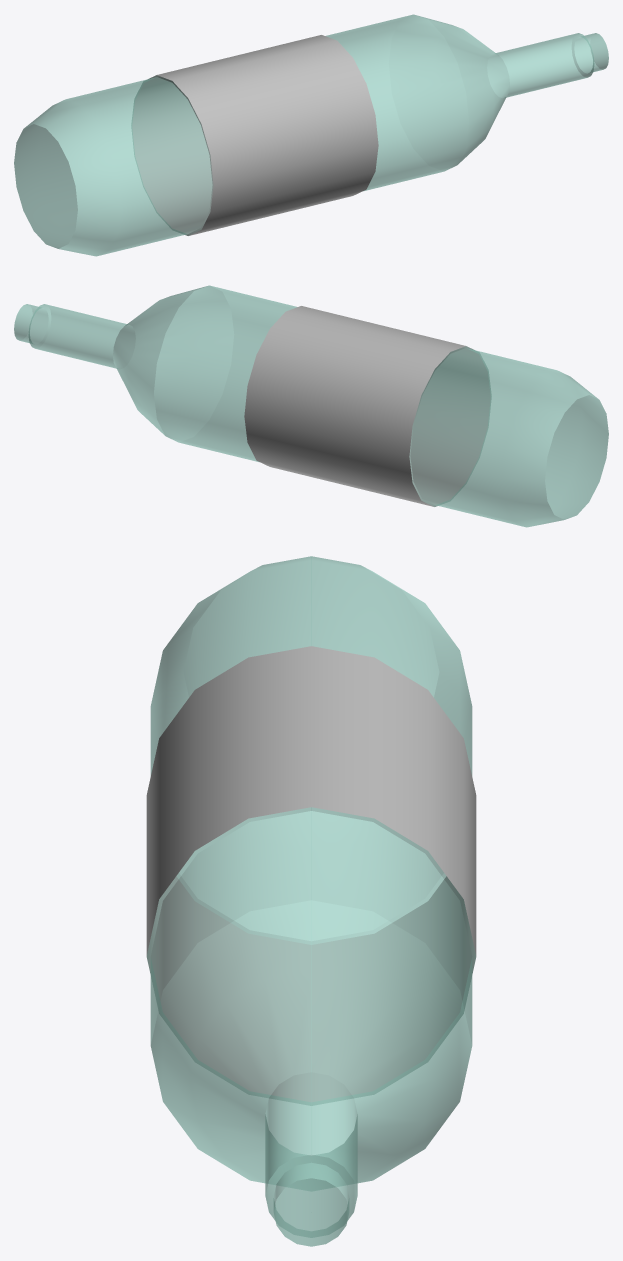
Rendered from wineBottle.fbx.
The picture shows the model from 3 angles, top to bottom: view 1: azimuth 30°, elevation 25°; view 2: azimuth 150°, elevation 25°; view 3: azimuth 270°, elevation 25°; orthographic projection. The views are drawn at different scales.
Visible parts, largest first — view 1: wineBottle; view 2: wineBottle; view 3: wineBottle.
Part boxes in pixels (box(x1,y1,x2,y2)): wineBottle: box(14, 14, 608, 256); wineBottle: box(14, 285, 608, 527); wineBottle: box(146, 556, 476, 1246).
Size of the model in its own units: 79.5 by 20.51 by 20.51.
Materials: 2 (1 with a texture image).
